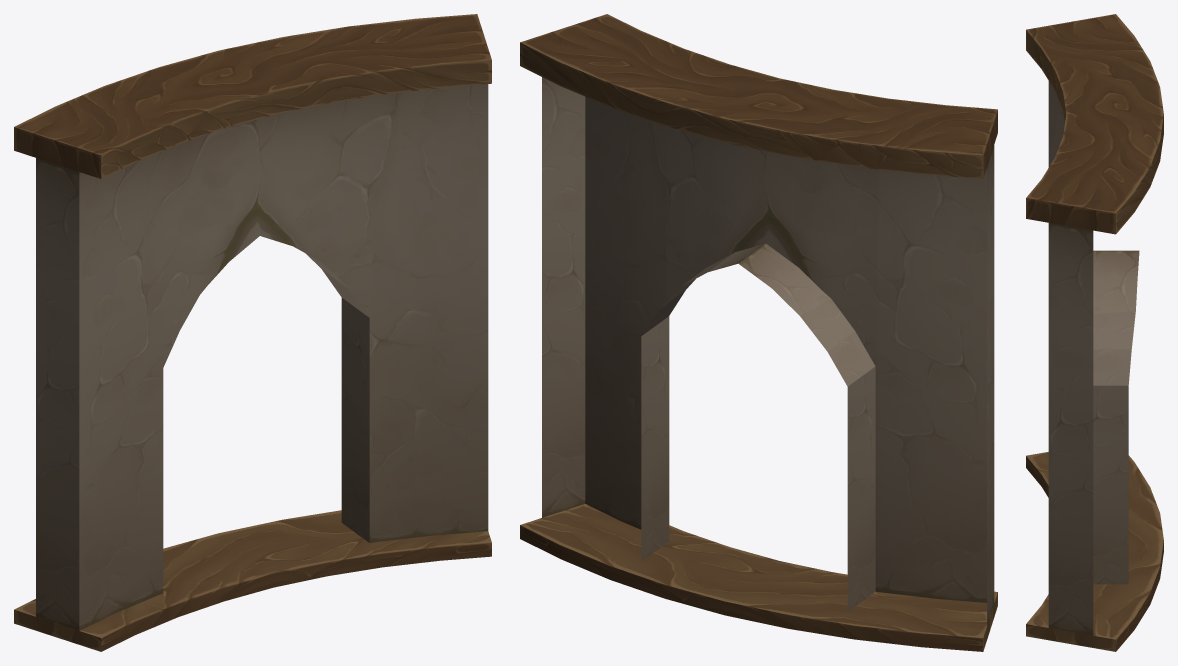
Rendered from Wall_round_4_2.FBX.
3 views of the same model, side by side, from view 1: azimuth 30°, elevation 25°; view 2: azimuth 150°, elevation 25°; view 3: azimuth 270°, elevation 25° (orthographic). The views are drawn at different scales.
Parts seen in each view (by area): view 1: Wall_round_4_2; view 2: Wall_round_4_2; view 3: Wall_round_4_2.
Part boxes in pixels (x1,y1,x2,y2): Wall_round_4_2: (14,14,491,651); Wall_round_4_2: (520,14,997,651); Wall_round_4_2: (1026,14,1163,651).
Size of the model in its own units: 3486 by 3570 by 1017.
